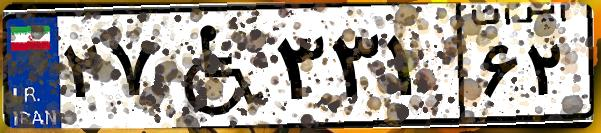1: (385, 28, 445, 110)
2: (57, 26, 110, 100), (525, 38, 570, 115)
3: (270, 28, 330, 110), (330, 28, 385, 110)
6: (475, 38, 525, 113)
7: (110, 28, 158, 98)
ژ (معلولین و جانبازان): (158, 12, 270, 120)
